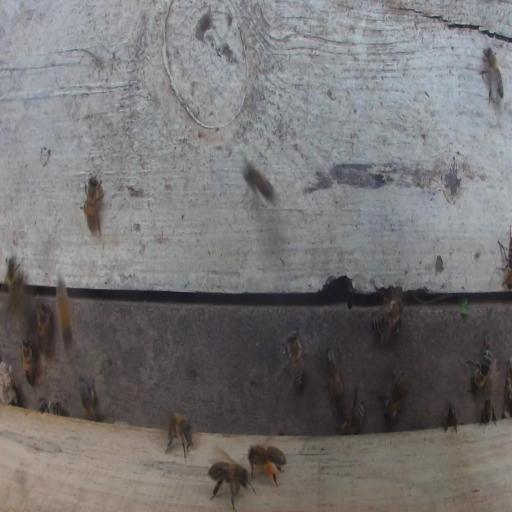nonpollenbee: (205, 453, 249, 501), (165, 411, 204, 463), (334, 386, 366, 437), (464, 333, 493, 389), (368, 294, 403, 338), (478, 46, 504, 105), (80, 172, 102, 238), (380, 374, 407, 427), (281, 328, 304, 387), (55, 276, 74, 346), (493, 223, 511, 289), (323, 347, 344, 402), (244, 166, 277, 201), (35, 300, 52, 354), (21, 337, 34, 387), (479, 397, 498, 427), (444, 404, 459, 434), (36, 399, 61, 416)
pollenbee: (246, 442, 288, 489), (79, 377, 98, 422)
